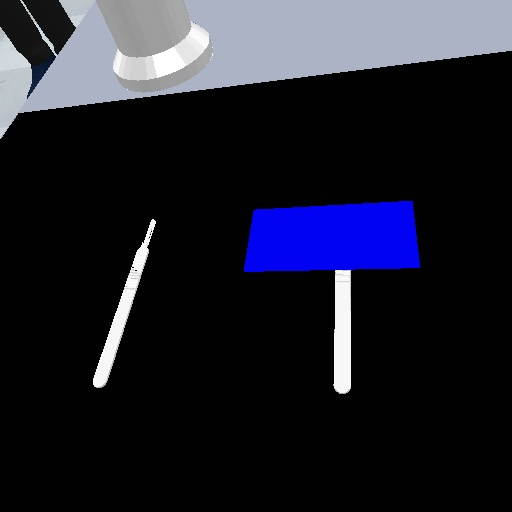bisturi: (89, 213, 159, 391), (331, 269, 354, 395)
